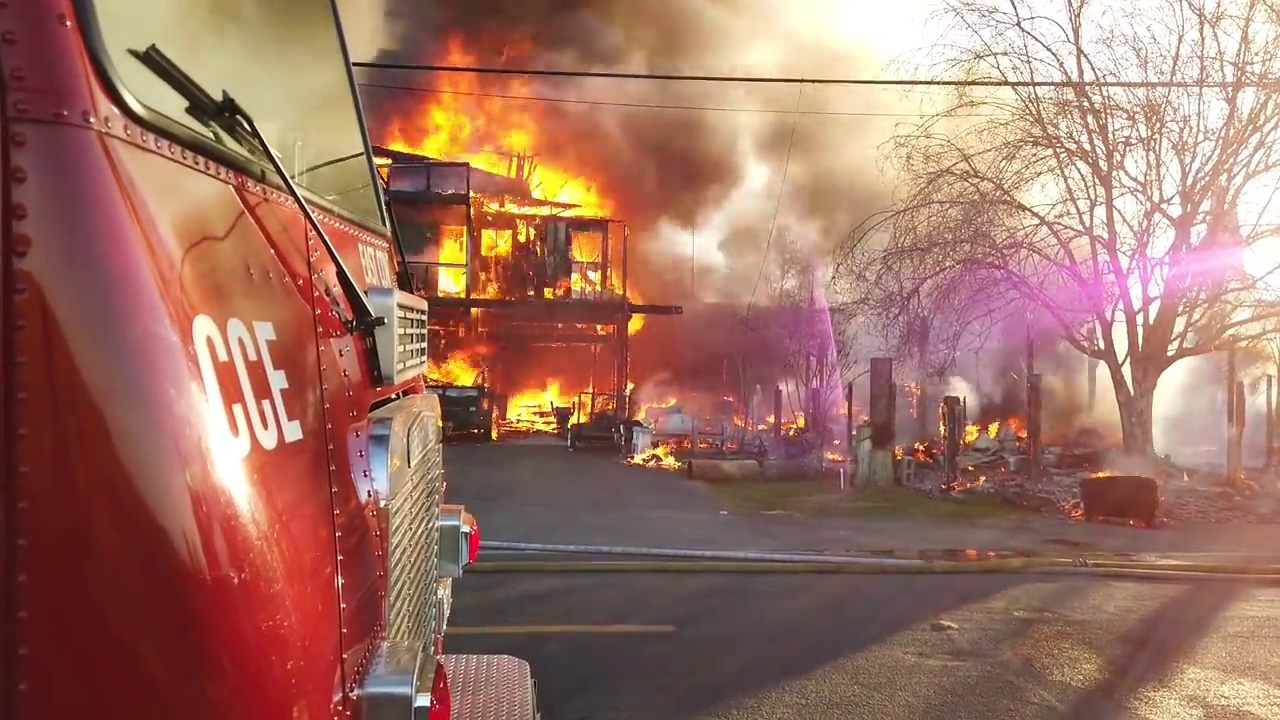fire: (382, 39, 610, 297), (504, 373, 593, 429), (555, 226, 601, 294), (432, 345, 484, 385), (728, 407, 809, 430), (629, 439, 684, 467), (901, 438, 931, 458), (624, 309, 646, 335), (1003, 414, 1026, 438)
smoke: (606, 0, 905, 391)
